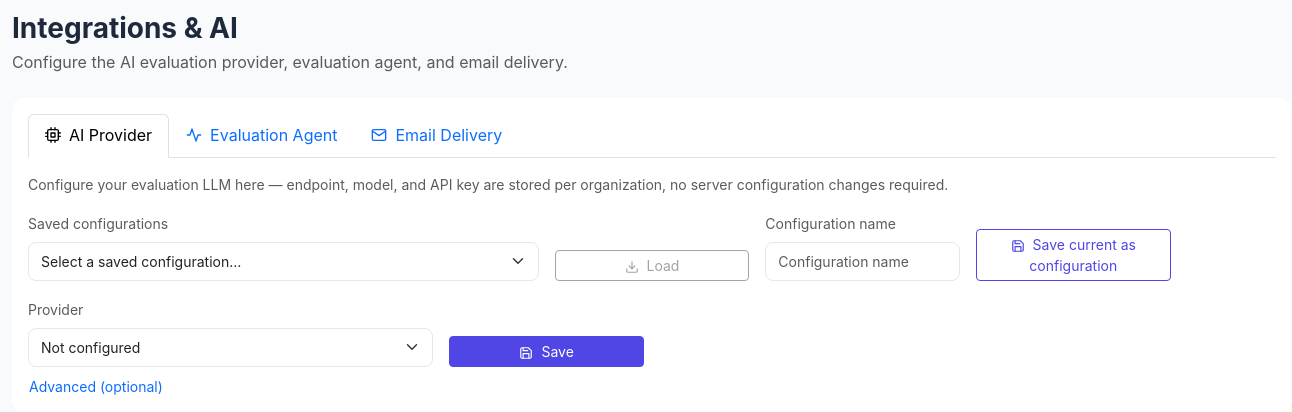
Scenario: IntegrationSettings › shows email delivery health on its tab
Click the tab "Email Delivery".
click(437, 136)  # box 354,114 -> 519,158
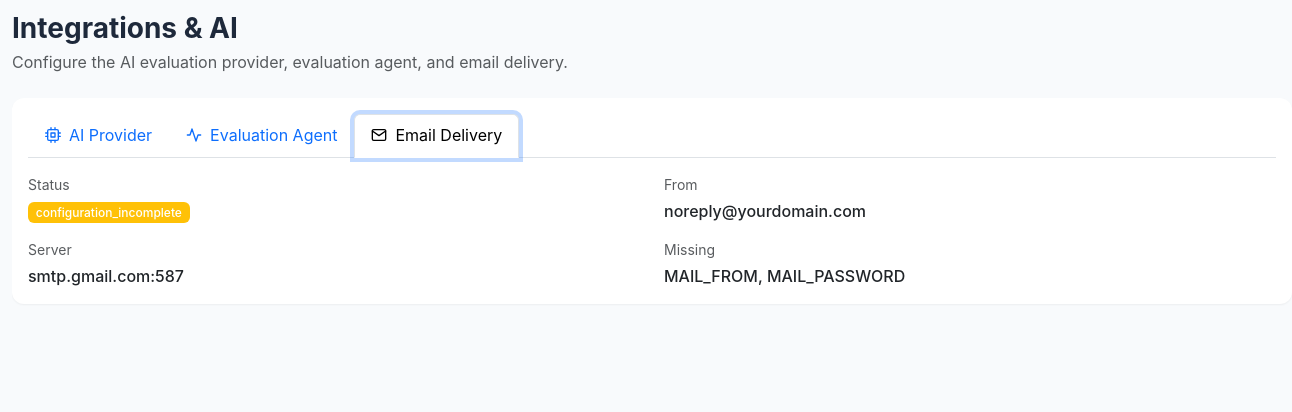
Expected: the text "configuration_incomplete" is shown, 28,202 -> 190,223
Expected: the text "noreply@yourdomain.com" is shown, 664,201 -> 866,221
Expected: the text "smtp.gmail.com:587" is shown, 28,266 -> 184,286
